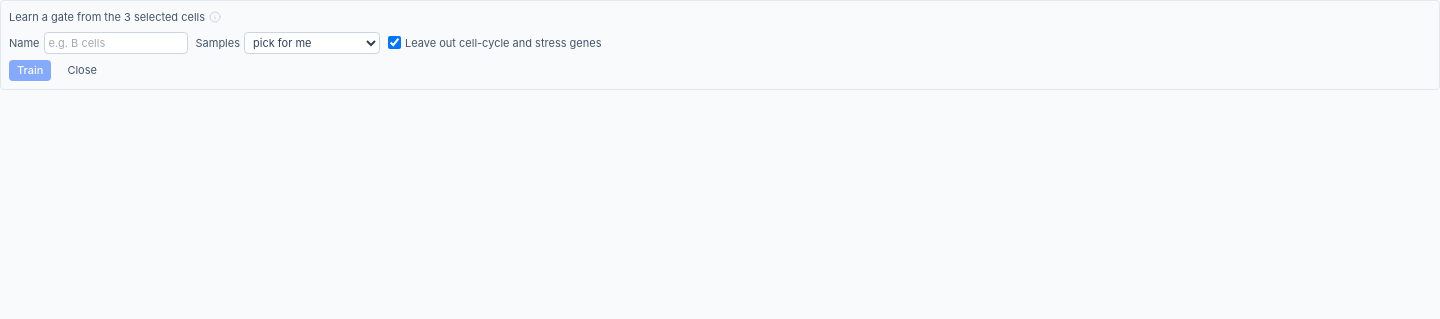
Test case: LearnedGateForm › trains on the selection with the chosen settings and shows the card
expect the button "Train" is disabled: met, box [9, 60, 51, 80]
Type "B cells" into the field labelled "Name". click: (116, 43)
box: [44, 32, 188, 54]
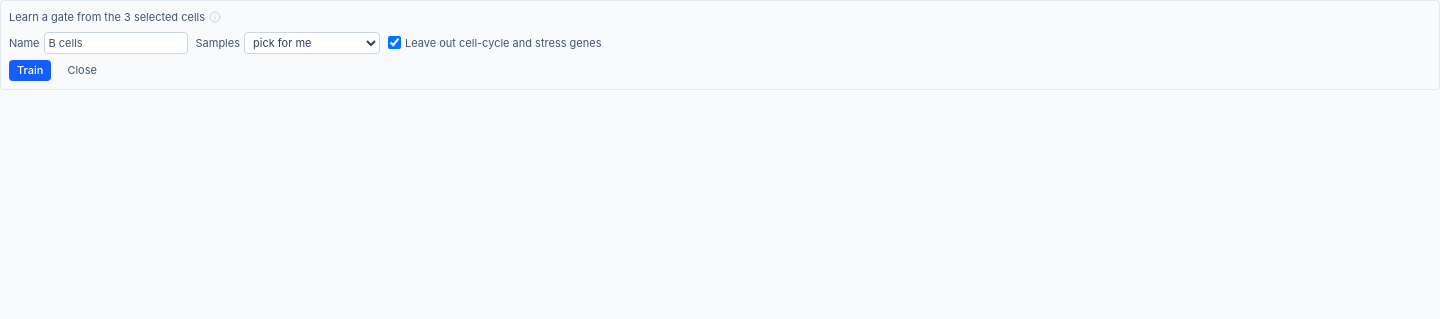
Select "Donor" in the dropdown labelled "Samples". click: (312, 43)
box: [244, 32, 380, 54]
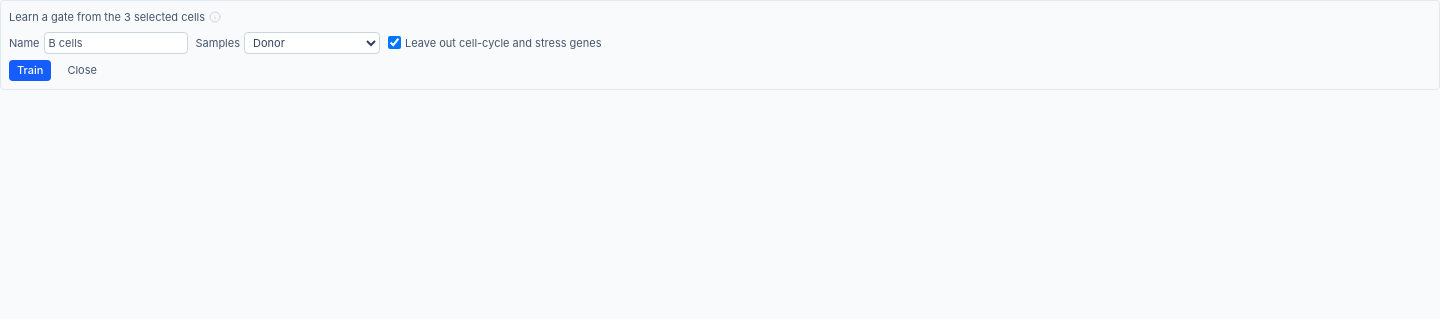
Click the checkbox labelled "Leave out cell-cycle and stress genes". click: (394, 43)
box: [388, 36, 401, 49]
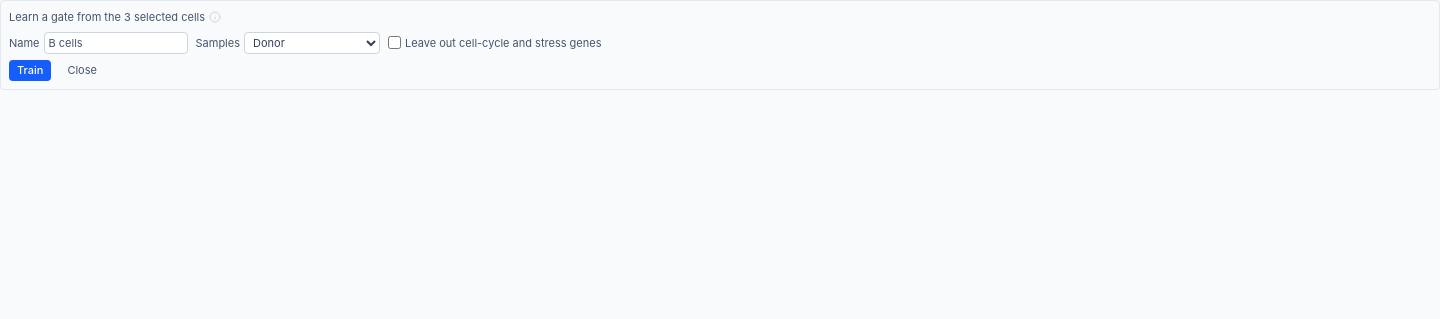
Click the button "Train". click: (30, 70)
box: [9, 60, 51, 80]
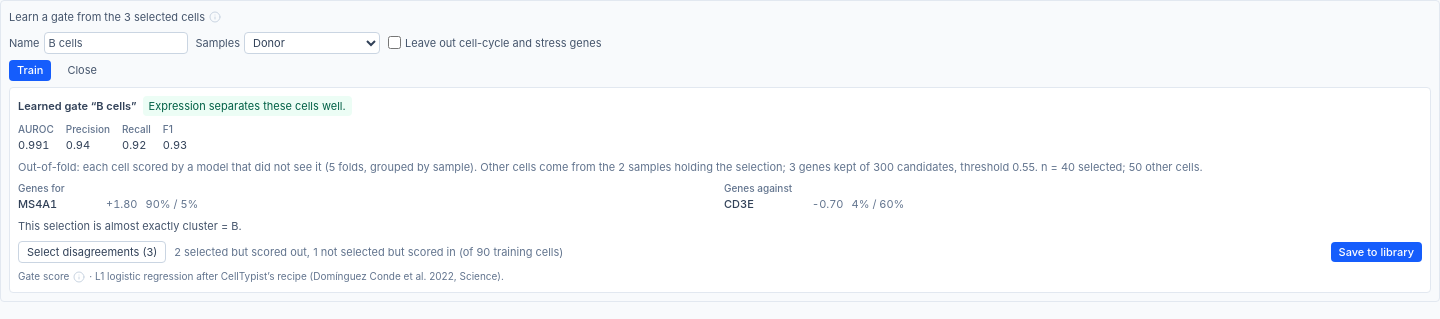
expect the element with test id "learned-gate-card" is shown: met
expect the text with test id "learned-gate-verdict" shows "separates these cells well": met, box [149, 98, 346, 112]
